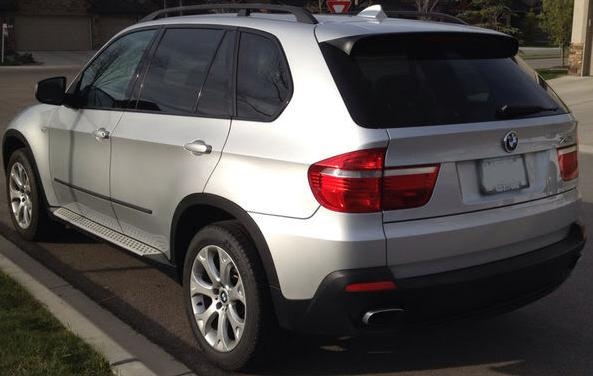back_view: (288, 121, 584, 335)
backlight: (297, 144, 445, 220)
side_glass: (58, 23, 299, 117)
